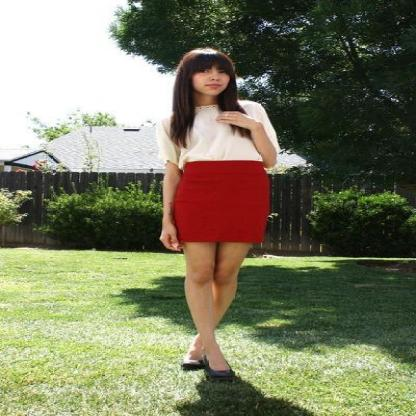shirt: (166, 100, 270, 168)
shoe: (187, 358, 234, 381)
skirt: (168, 160, 272, 244)
